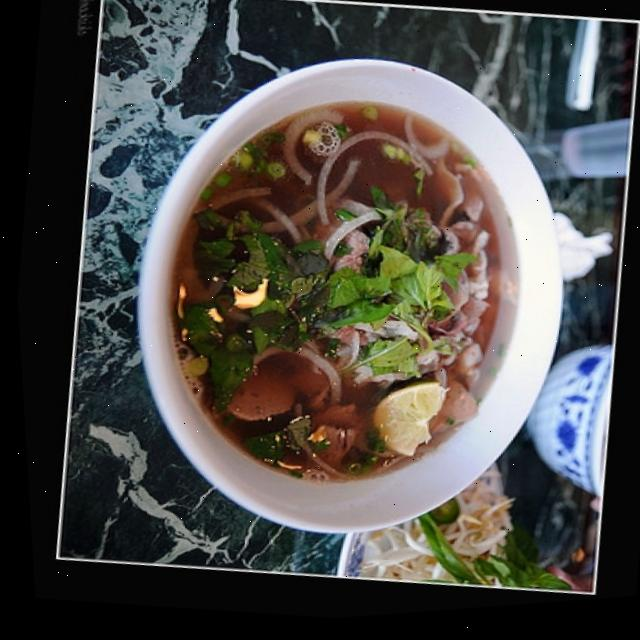面条主食: (85, 27, 596, 554)
